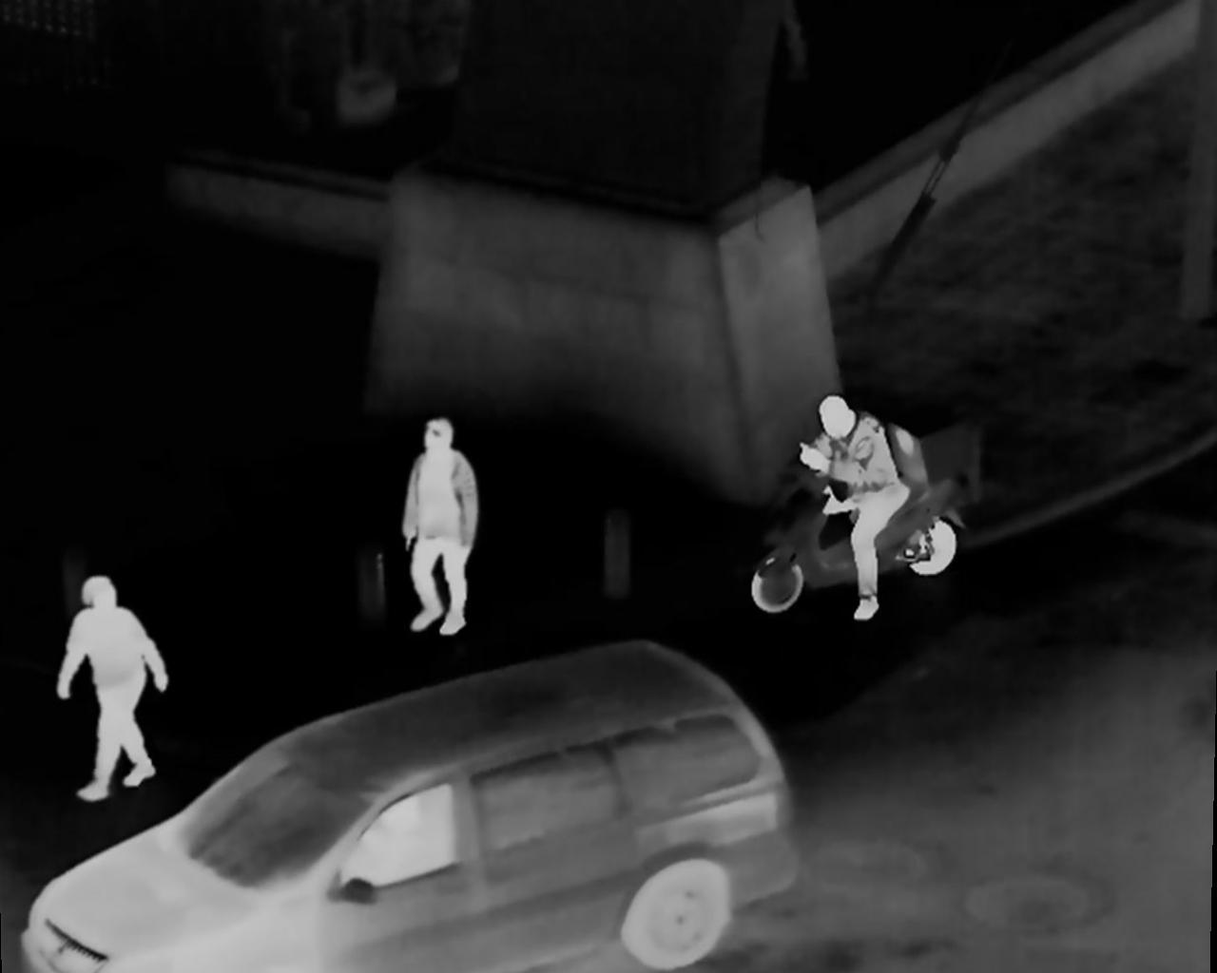person: (811, 391, 926, 613), (380, 410, 481, 639), (64, 563, 168, 782)
